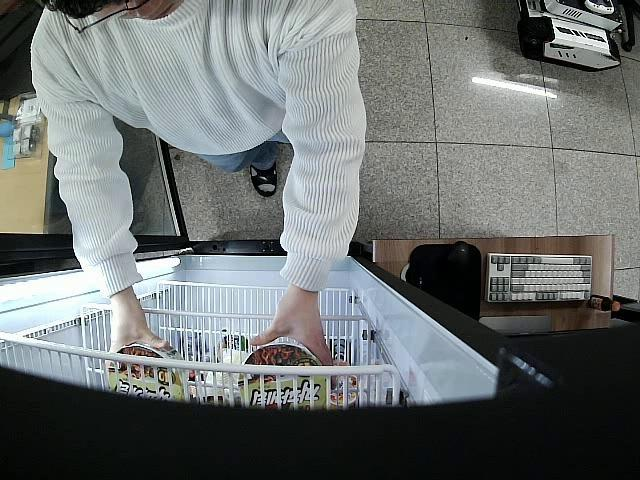03_chapagetti_L: (236, 343, 331, 410), (106, 341, 190, 404)
